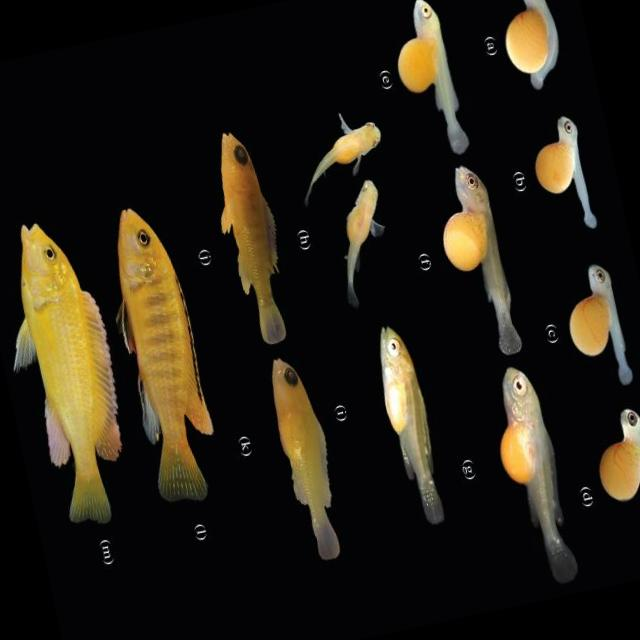YellowCichlid: (0, 169, 146, 537), (86, 180, 232, 521), (195, 105, 304, 348), (352, 316, 463, 552), (480, 362, 587, 602), (420, 158, 529, 372), (260, 347, 354, 570), (383, 0, 475, 173), (550, 258, 638, 402), (471, 0, 584, 104), (313, 190, 414, 306), (286, 99, 394, 200), (522, 120, 608, 246), (580, 406, 640, 571)
